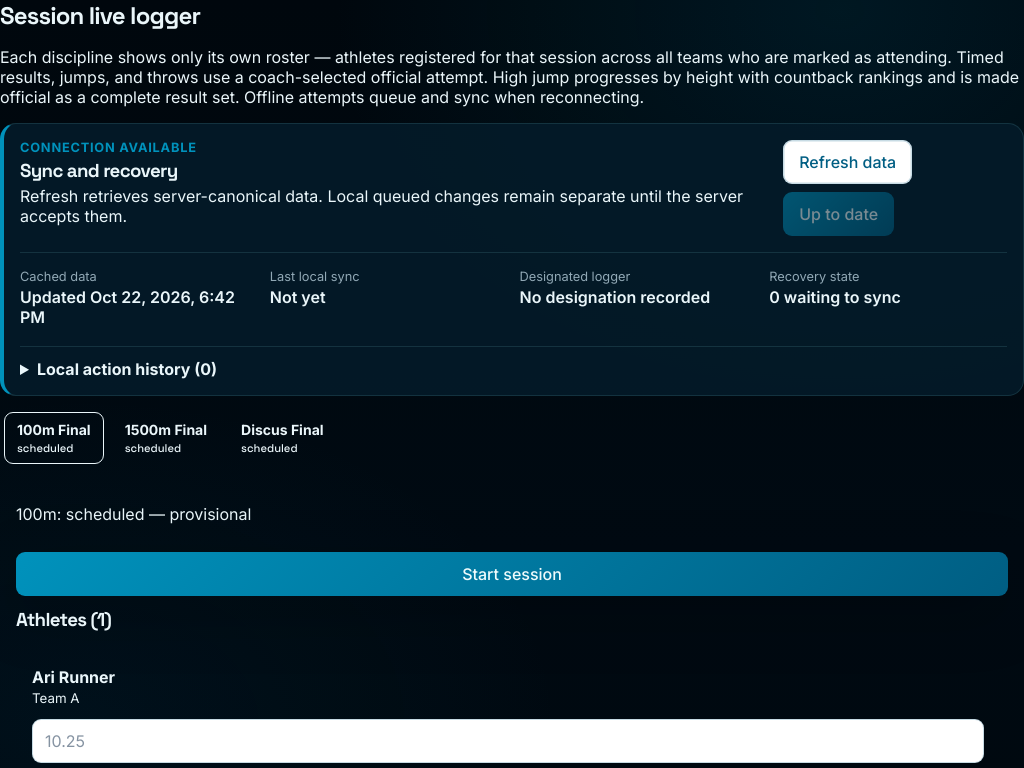
Scenario: SessionLivePanel › shows discipline-relevant options for throws and distance races
Click the tab "Discus Final scheduled" at (282, 438), box [228,412,336,464]
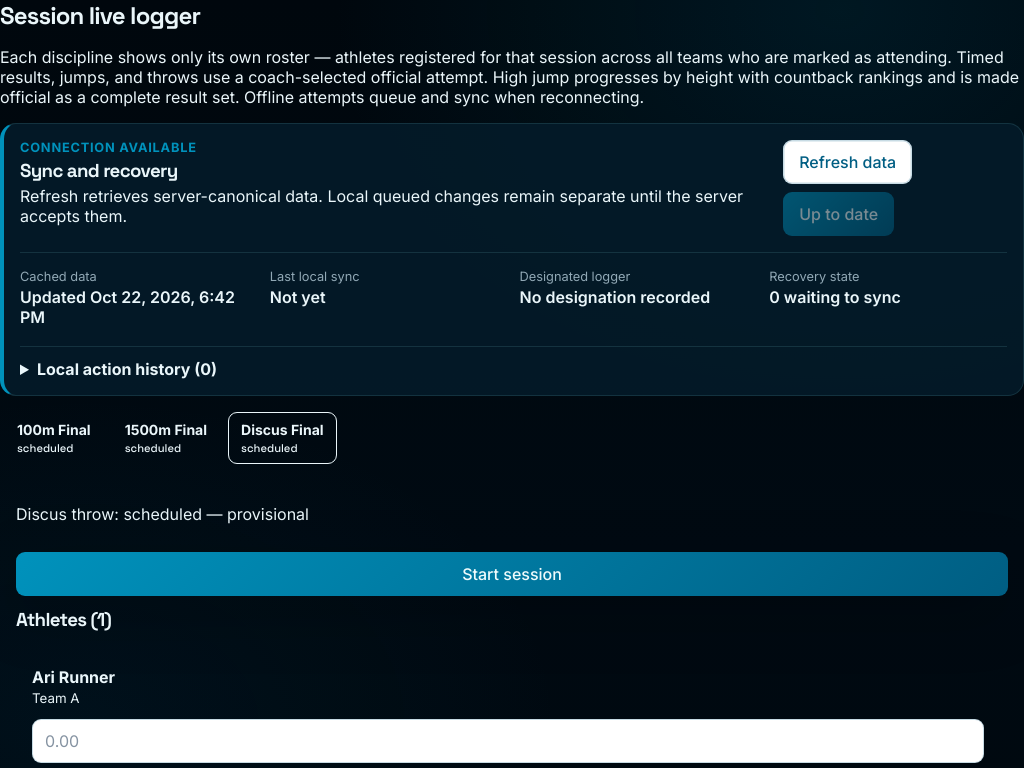
expect the number field named "Mark (metres) for Ari Runner" is shown: met, box [32,719,984,763]
Click the tab "1500m Final scheduled" at (166, 438), box [112,412,220,464]
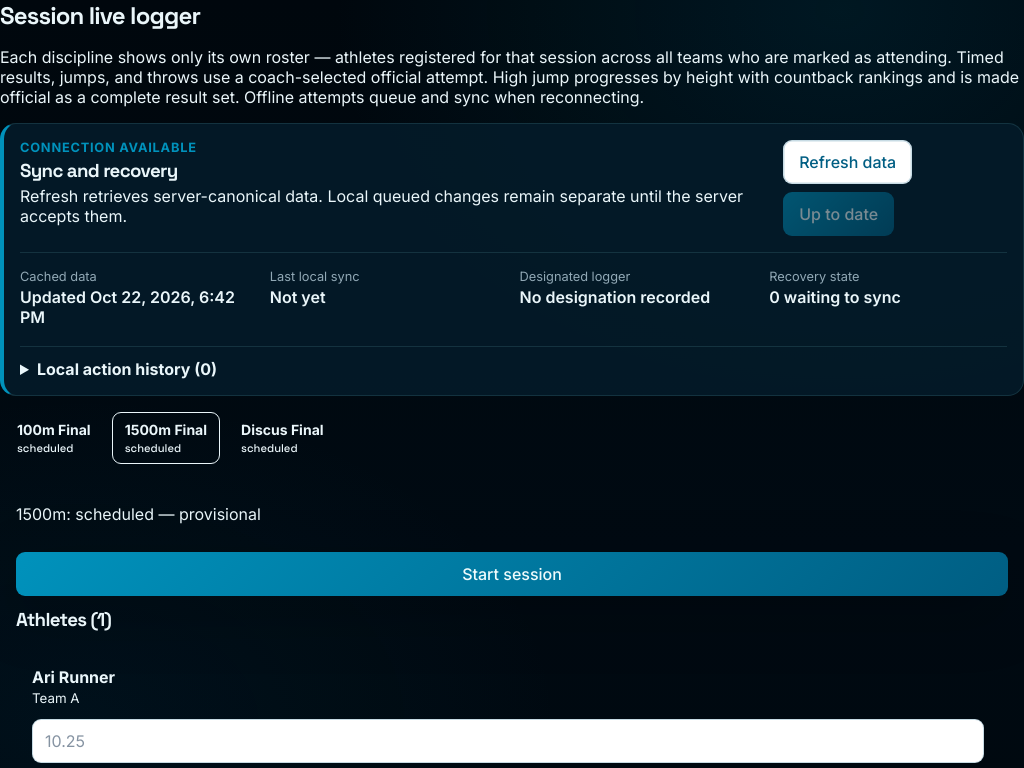
expect the button "Lane Inf." is not shown: met
expect the number field named "Time (s) for Ari Runner" is shown: met, box [32,719,984,763]
Click the tab "100m Final scheduled" at (54, 438), box [4,412,104,464]
(page scrolled)
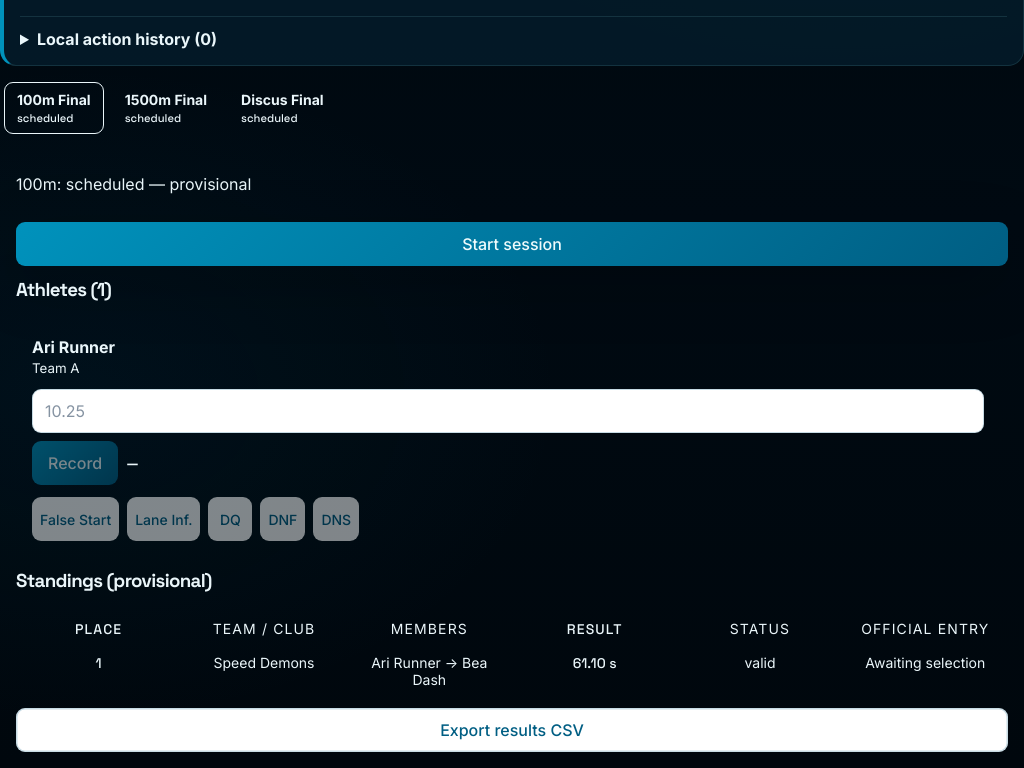
expect the button "False Start" is shown: met, box [32,497,119,541]
expect the button "Lane Inf." is shown: met, box [127,497,200,541]
